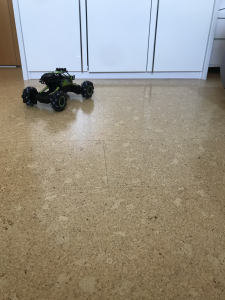remote control car: (21, 63, 95, 113)
